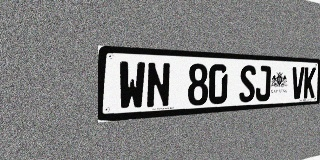0: (208, 64, 228, 105)
8: (188, 63, 209, 106)
J: (255, 65, 271, 102)
K: (303, 67, 316, 98)
N: (146, 62, 171, 109)
S: (239, 65, 256, 103)
V: (291, 67, 304, 99)
W: (118, 61, 146, 110)
